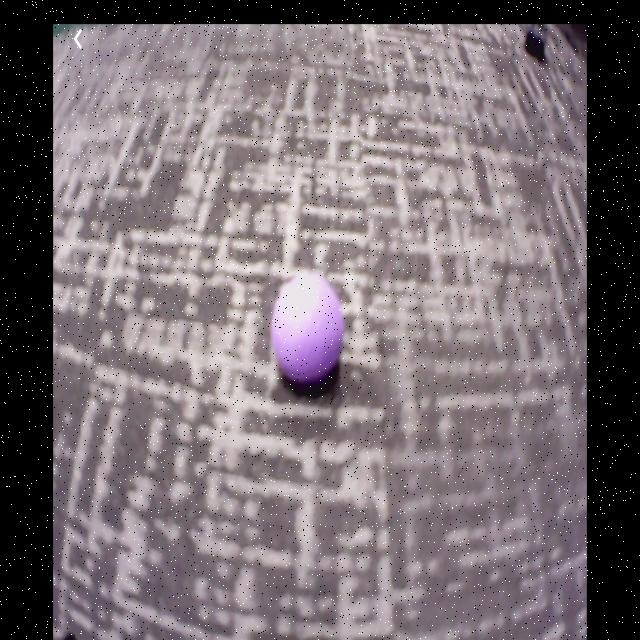ball: (271, 276, 345, 378)
